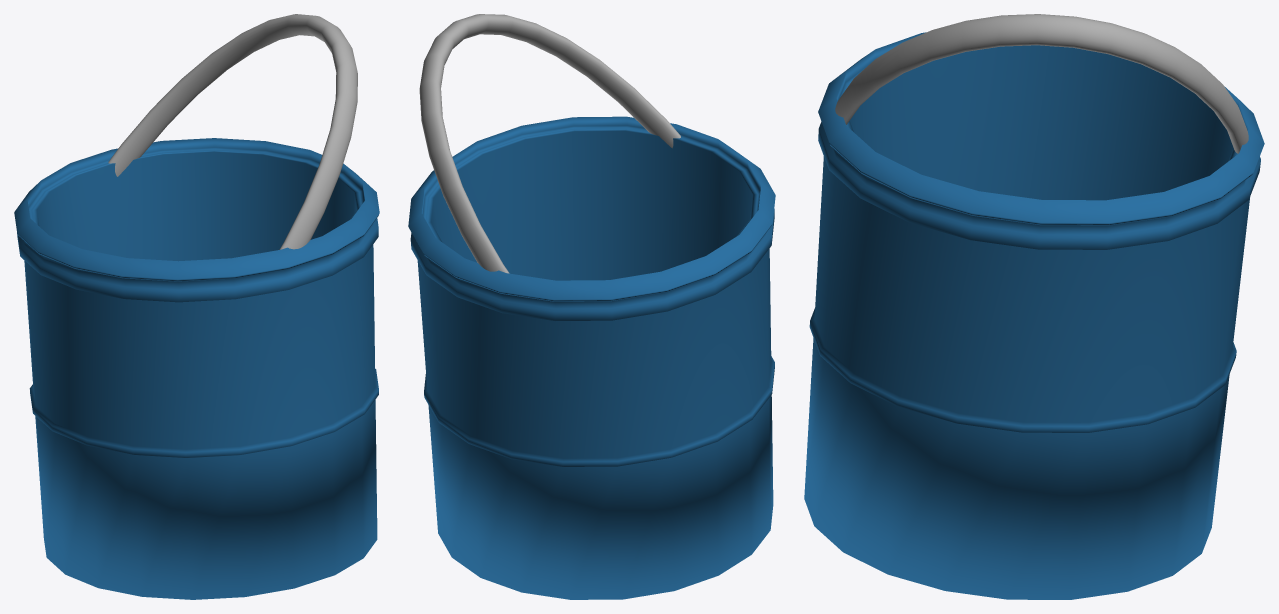
File: Level_sand_Bucket.fbx
3 renders of one model, left to right at view 1: azimuth 30°, elevation 25°; view 2: azimuth 150°, elevation 25°; view 3: azimuth 270°, elevation 25°, orthographic. The views are drawn at different scales.
Parts seen in each view (by area): view 1: pCylinder2; view 2: pCylinder2; view 3: pCylinder2.
Part boxes in pixels (x1,y1,x2,y2): pCylinder2: (14, 14, 379, 599); pCylinder2: (408, 14, 775, 599); pCylinder2: (804, 14, 1264, 599).
Size of the model in its own units: 2.34 by 3.41 by 2.41.
